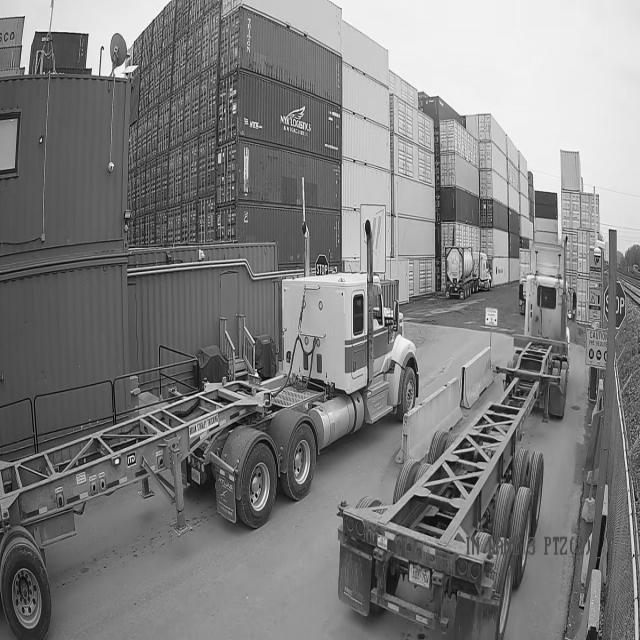license_plate: (409, 567, 432, 589)
truck_without_container: (0, 222, 436, 639), (338, 269, 568, 639)
